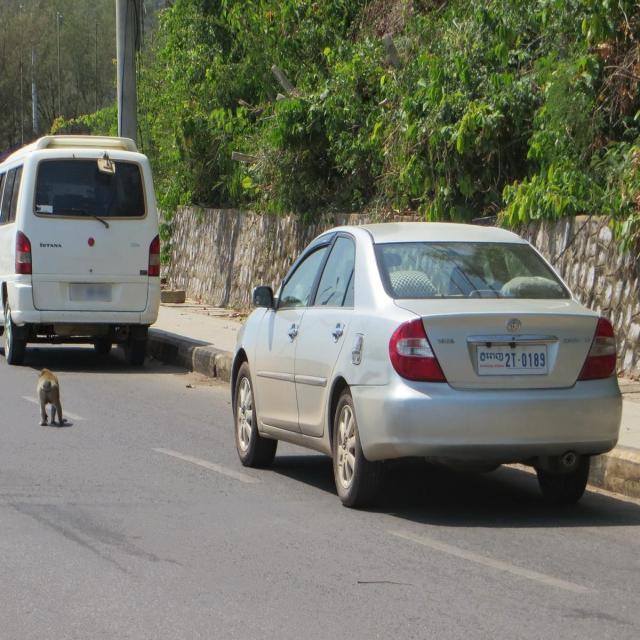Phnom_Penh: (479, 349, 504, 362)
